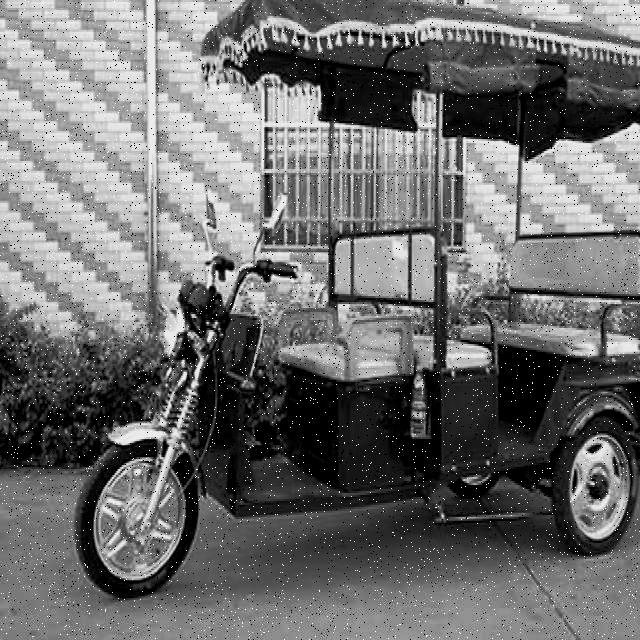Toto: (70, 0, 639, 582)
